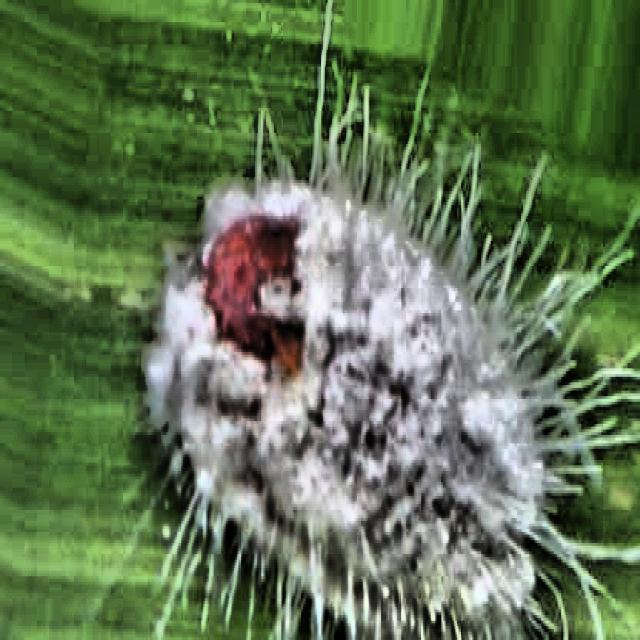Mealy-bug: (95, 44, 636, 639)
